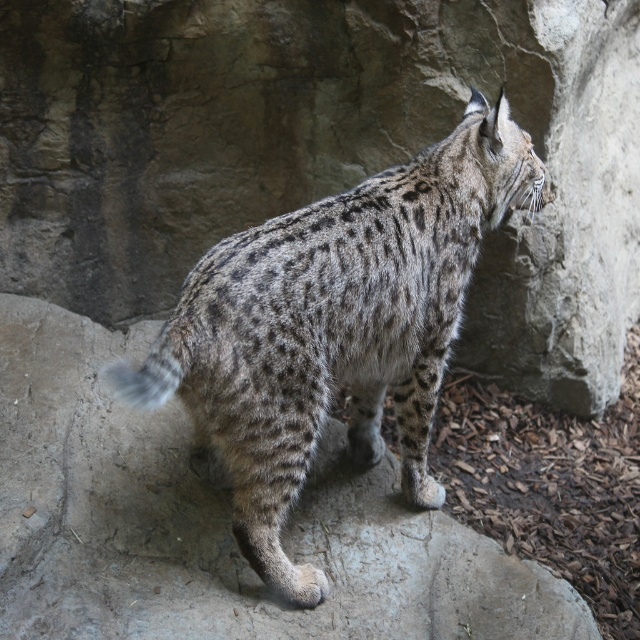Lynx: (99, 78, 552, 602)
